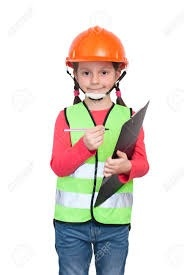helmet: (67, 25, 128, 71)
person with full safety: (52, 27, 148, 273)
safety vest: (62, 105, 134, 226)
